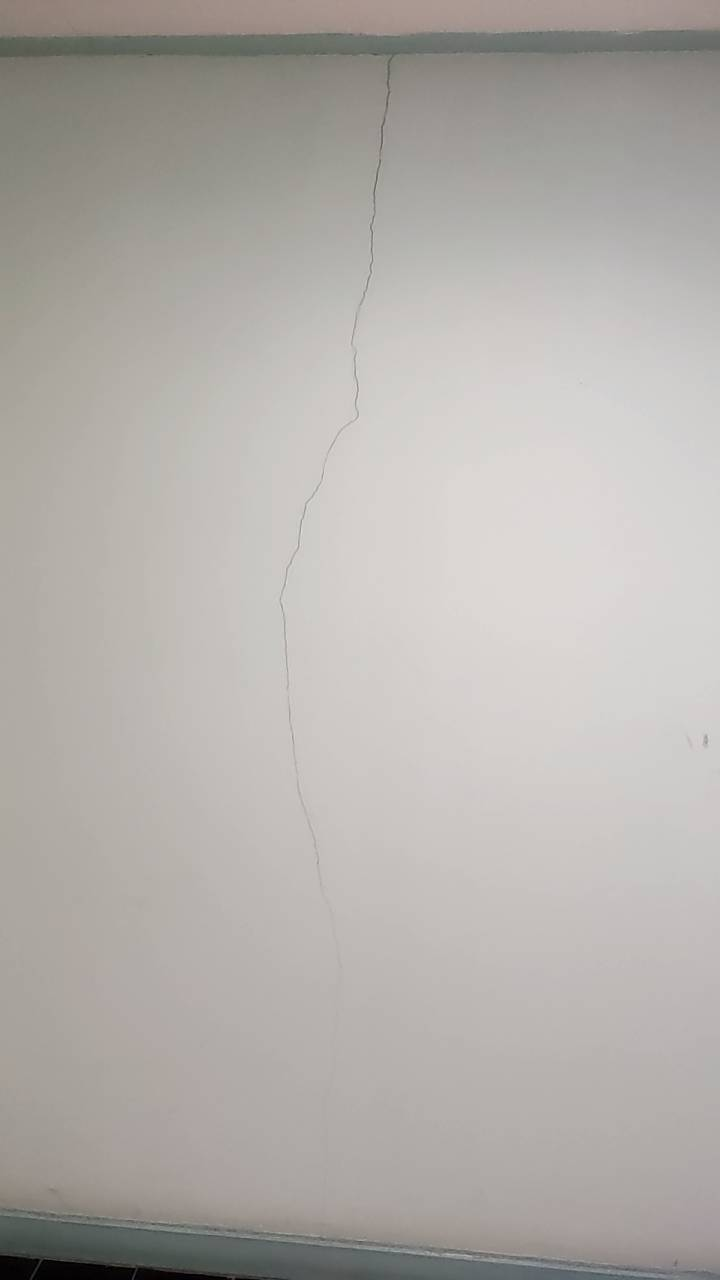Low: (259, 57, 411, 1026)
